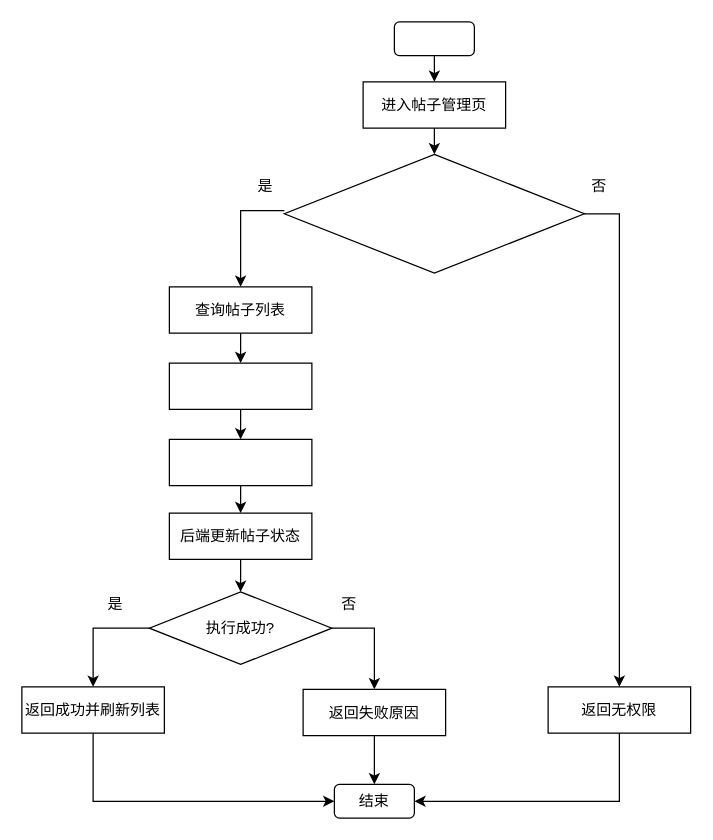
Some shapes in this 713 by 840 pixel diagram are drawn without their labels. Each missing label, with the centre of its shape:
"JWT+AdminOnly+Casbin鉴权通过？" belongs at pixel 433 213.
"开始" belongs at pixel 433 38.
"执行隐藏/恢复/删除操作" belongs at pixel 240 385.
"调用治理接口" belongs at pixel 240 462.
